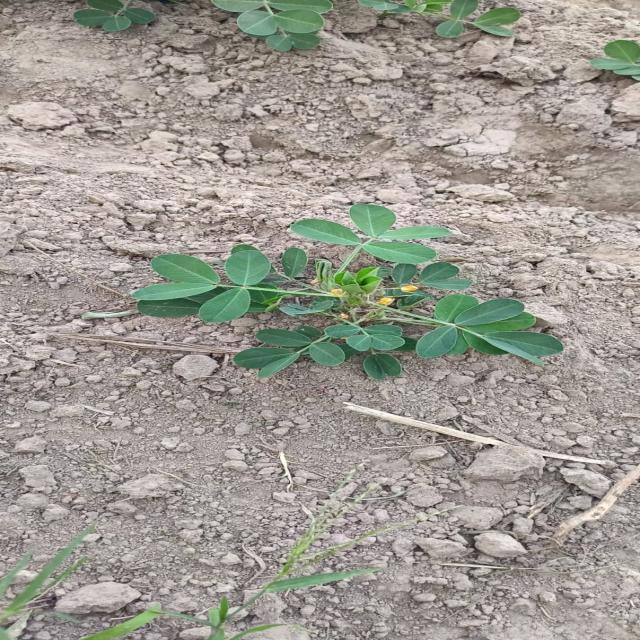plant: (132, 205, 564, 379)
